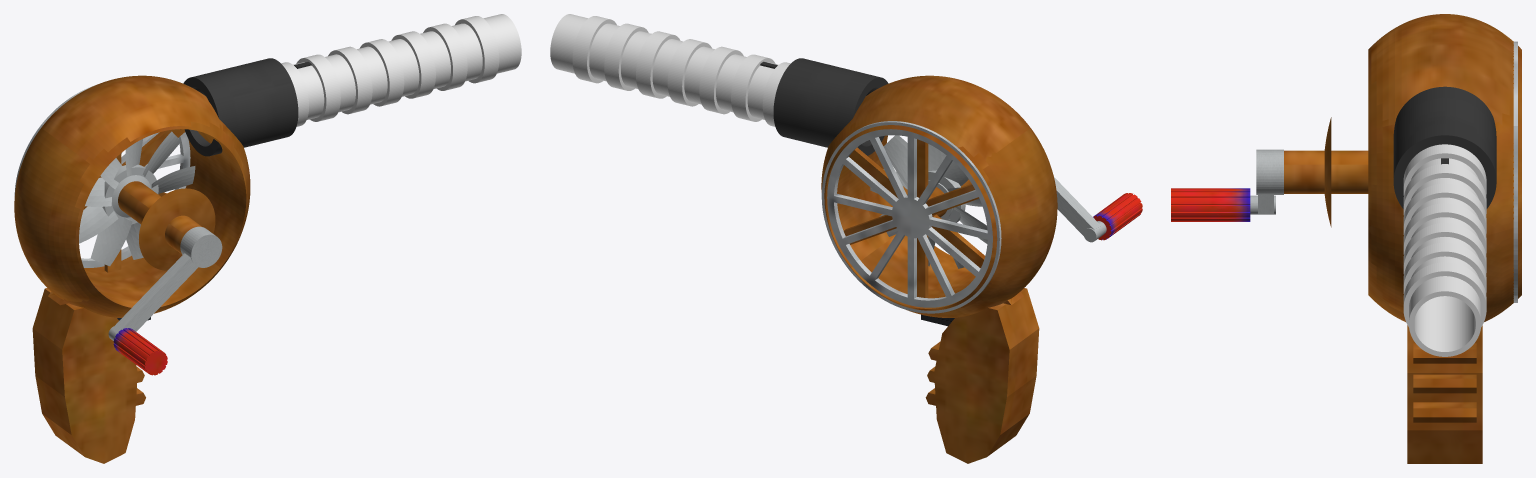
The model's file is pictureX_0611_Air_blower__0183.glb.
3 renders of one model, left to right at view 1: azimuth 30°, elevation 25°; view 2: azimuth 150°, elevation 25°; view 3: azimuth 270°, elevation 25°, orthographic. The views are drawn at different scales.
Parts seen in each view (by area): view 1: housing::main_body, nozzle::metal_tube, housing::outlet_socket, fan_rotor::fan_wheel, crank::crank_arm, crank::rotating_grip, crank::crank_hub, housing::intake_grille, fan_rotor::fan_hub; view 2: housing::main_body, nozzle::metal_tube, housing::intake_grille, housing::outlet_socket, fan_rotor::fan_wheel, crank::rotating_grip, crank::crank_arm; view 3: housing::main_body, nozzle::metal_tube, housing::outlet_socket, crank::rotating_grip, crank::crank_hub, housing::intake_grille.
Boxes of the visible parts, x1,y1,x2,y2 form: housing::main_body: [14, 75, 250, 463]; nozzle::metal_tube: [281, 14, 521, 126]; housing::outlet_socket: [183, 58, 298, 156]; fan_rotor::fan_wheel: [79, 131, 195, 266]; crank::crank_arm: [112, 253, 198, 332]; crank::rotating_grip: [113, 328, 167, 375]; crank::crank_hub: [180, 226, 222, 267]; housing::intake_grille: [14, 85, 190, 267]; fan_rotor::fan_hub: [102, 164, 158, 224]; housing::main_body: [821, 75, 1057, 463]; nozzle::metal_tube: [550, 14, 790, 126]; housing::intake_grille: [821, 121, 1001, 313]; housing::outlet_socket: [773, 58, 888, 155]; fan_rotor::fan_wheel: [870, 135, 987, 268]; crank::rotating_grip: [1093, 193, 1142, 240]; crank::crank_arm: [1054, 177, 1100, 235]; housing::main_body: [1284, 14, 1521, 463]; nozzle::metal_tube: [1403, 144, 1486, 356]; housing::outlet_socket: [1393, 86, 1496, 208]; crank::rotating_grip: [1171, 188, 1250, 221]; crank::crank_hub: [1256, 149, 1283, 194]; housing::intake_grille: [1513, 41, 1517, 302].
Size of the model in its own units: 0.3579 by 0.254 by 0.1772.
7 materials, 6 textured.
